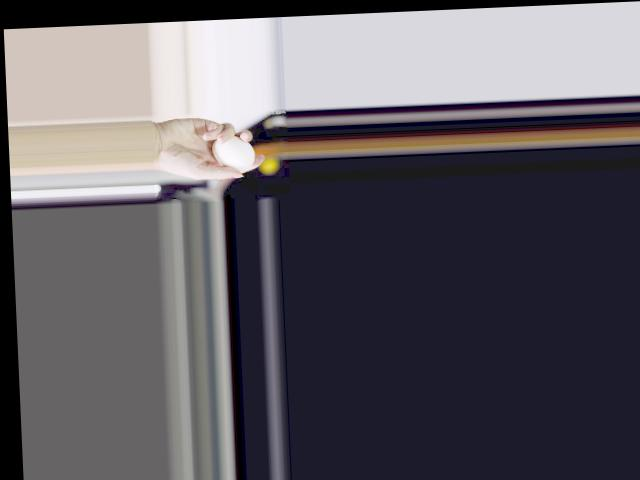egg: (212, 135, 256, 171)
